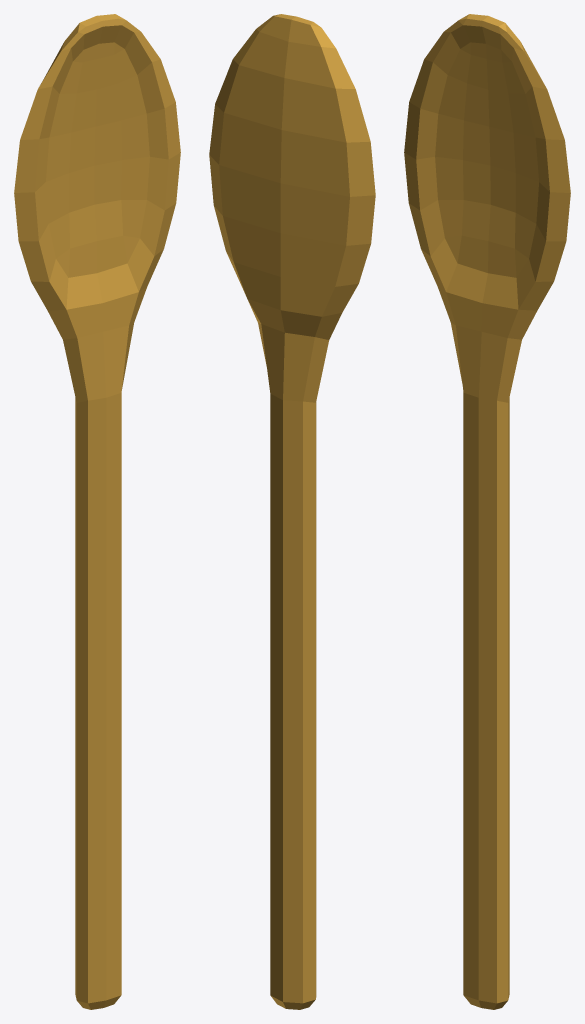
Rendered from ColherDePau.fbx.
The picture shows the model from 3 angles, left to right: view 1: azimuth 30°, elevation 25°; view 2: azimuth 150°, elevation 25°; view 3: azimuth 330°, elevation 25°; orthographic projection.
Visible parts, largest first — view 1: ColherDePau; view 2: ColherDePau; view 3: ColherDePau.
Part boxes in pixels (x1=…): ColherDePau: x1=14, y1=14, x2=180, y2=1009; ColherDePau: x1=209, y1=14, x2=375, y2=1009; ColherDePau: x1=404, y1=14, x2=570, y2=1009.
Bounding box in the file's own units: 10.64 × 60.35 × 2.27.
1 material, 1 textured.
